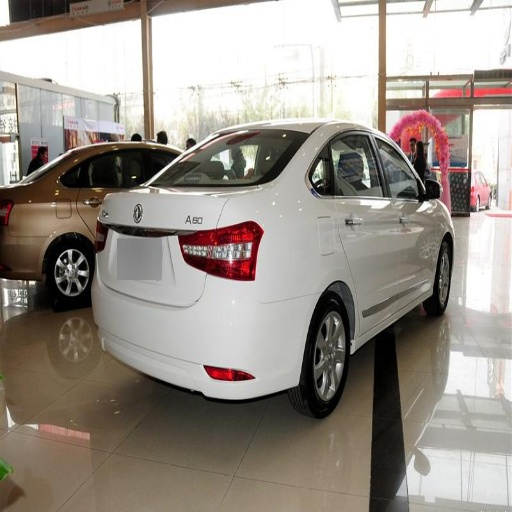back_bumper: (91, 243, 315, 404)
back_right_door: (326, 128, 397, 320)
tailgate: (101, 186, 237, 304)
